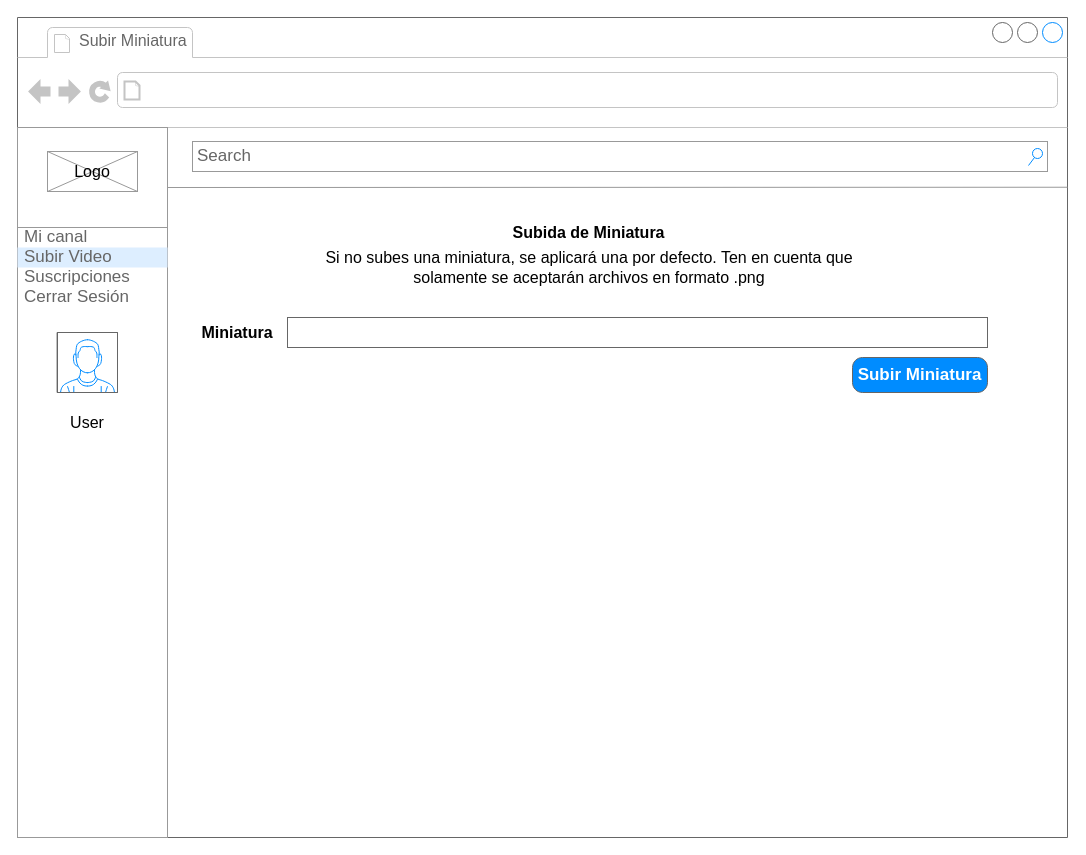
This 1086x855 diagram has some shape labels left out. The centre of each missing label's shape, as x and y in pixels:
https://www.tube.com: the point at 272,90
Seleccionar archivo...: the point at 637,332
